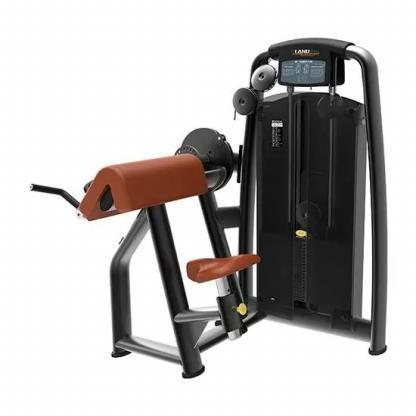arm curl machine: (30, 38, 388, 380)
